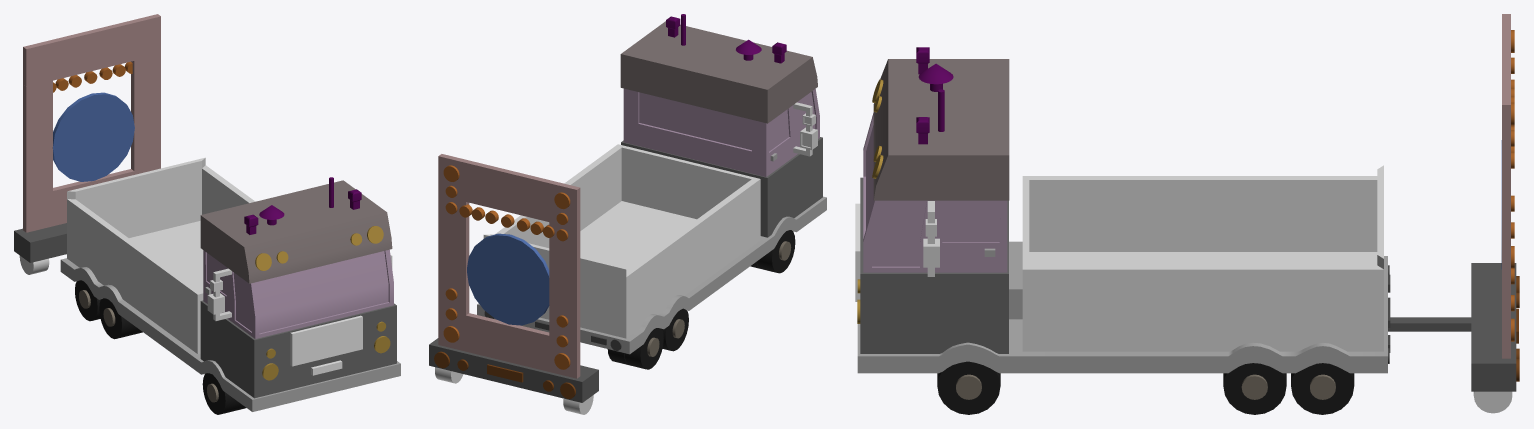
Rendered from camion.fbx.
3 renders of one model, left to right at view 1: azimuth 30°, elevation 25°; view 2: azimuth 150°, elevation 25°; view 3: azimuth 270°, elevation 25°, orthographic. The views are drawn at different scales.
Visible parts, largest first — view 1: camion2_pCube31; view 2: camion2_pCube31; view 3: camion2_pCube31.
Boxes of the visible parts, x1,y1,x2,y2 form: camion2_pCube31: (14, 14, 400, 414); camion2_pCube31: (429, 14, 826, 414); camion2_pCube31: (855, 14, 1519, 414).
Size of the model in its own units: 3.22 by 3.82 by 7.5.
